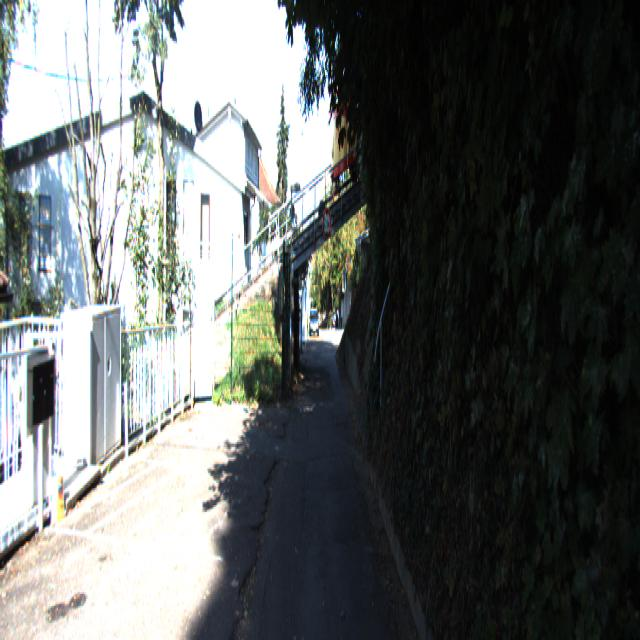Car: (310, 312, 320, 341)
